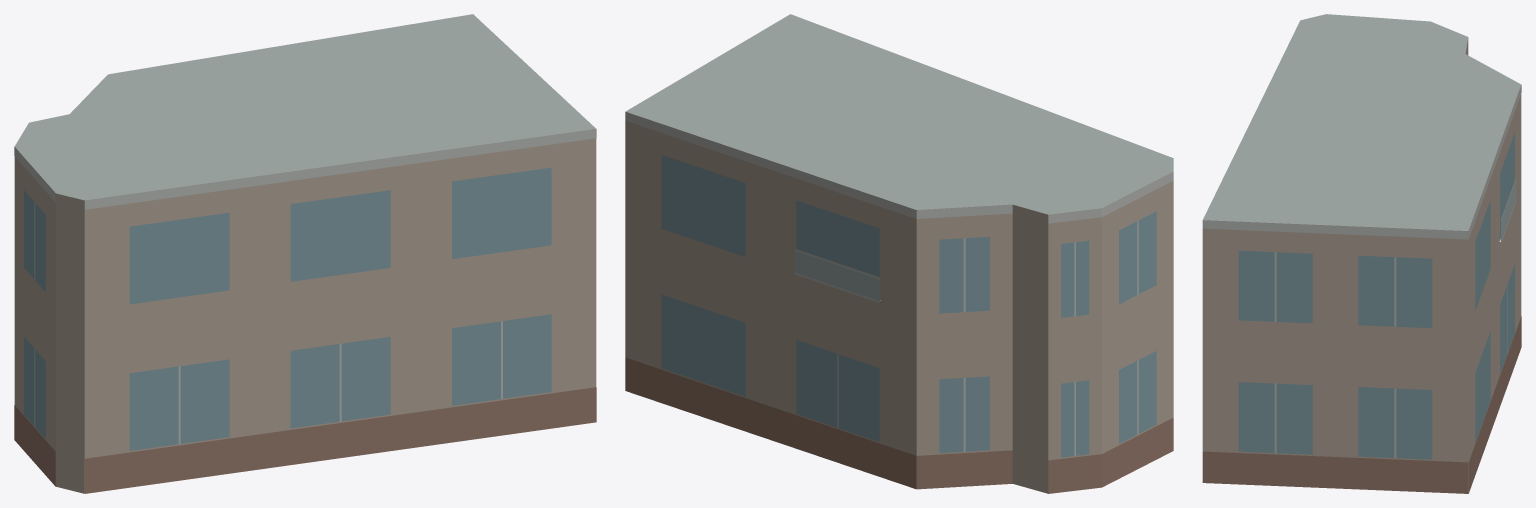
File: survey-upis-32614771.glb
3 views of the same model, side by side, from view 1: azimuth 30°, elevation 25°; view 2: azimuth 150°, elevation 25°; view 3: azimuth 270°, elevation 25° (orthographic). The views are drawn at different scales.
Visible parts, largest first — view 1: survey-upis-32614771.tmp; view 2: survey-upis-32614771.tmp; view 3: survey-upis-32614771.tmp.
Part boxes in pixels (<box>): survey-upis-32614771.tmp: <box>14,14,596,493</box>; survey-upis-32614771.tmp: <box>625,14,1173,493</box>; survey-upis-32614771.tmp: <box>1202,14,1521,493</box>.
Size of the model in its own units: 13.48 by 7.6 by 8.37.
